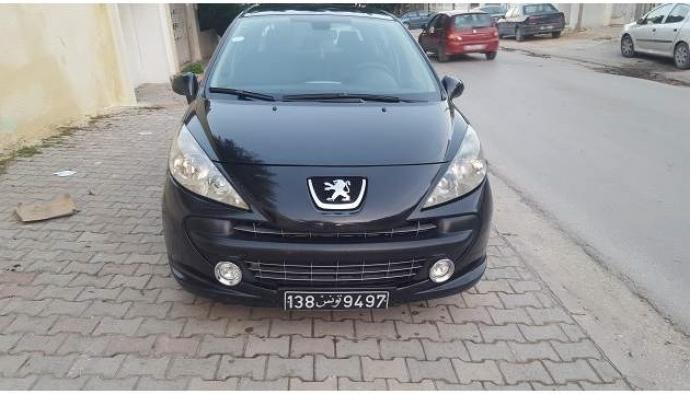LP: (283, 289, 389, 313)
